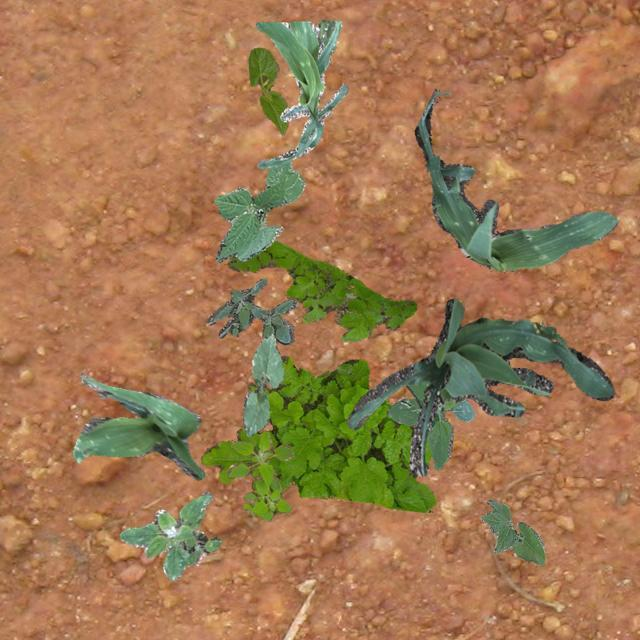crop: (346, 298, 614, 476), (414, 87, 616, 270), (72, 374, 204, 478), (256, 19, 346, 168), (214, 160, 302, 262), (479, 498, 544, 564), (242, 332, 282, 436), (248, 46, 288, 134)
weed: (200, 356, 434, 512), (227, 240, 416, 340), (118, 490, 220, 580), (386, 380, 474, 470), (206, 276, 296, 344), (225, 430, 292, 520)
